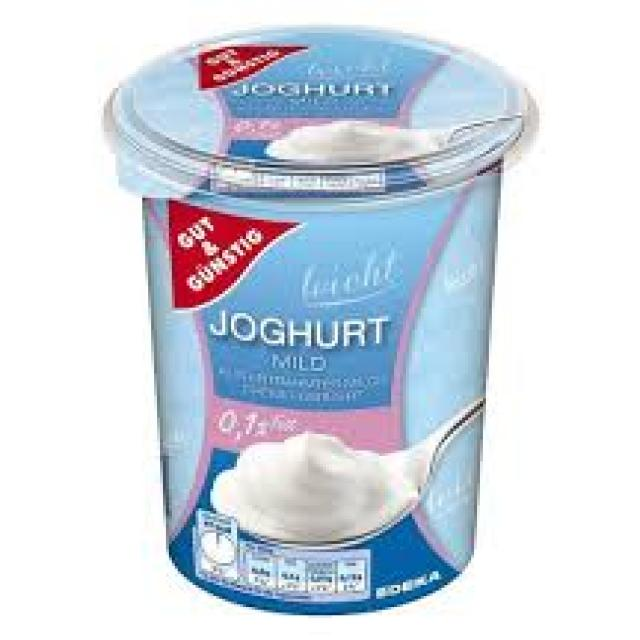plastic: (107, 25, 527, 610)
